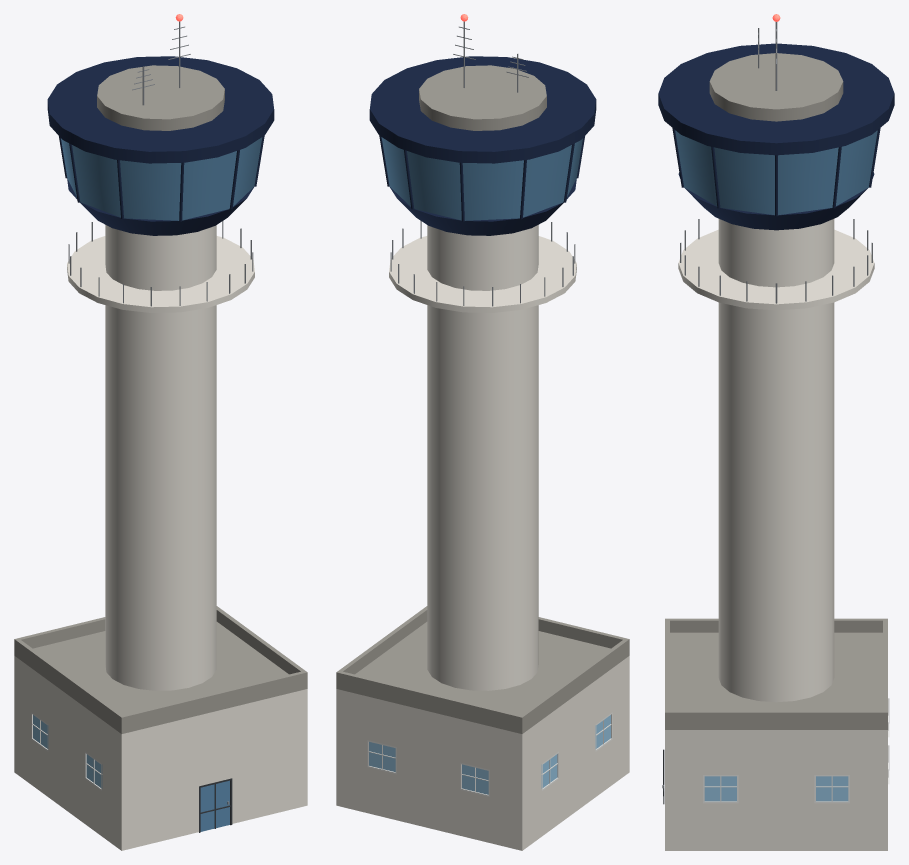
The model's file is torre-controle.glb.
3 renders of one model, left to right at view 1: azimuth 30°, elevation 25°; view 2: azimuth 150°, elevation 25°; view 3: azimuth 270°, elevation 25°, orthographic. The views are drawn at different scales.
Parts seen in each view (by area): view 1: Paredes, Detalhes, Telhado, VidroLuz, Vidro, Molduras; view 2: Paredes, Detalhes, Telhado, VidroLuz, Molduras, Vidro; view 3: Paredes, Detalhes, Telhado, VidroLuz, Molduras.
Part boxes in pixels (left/top/right/bottom): Paredes: left=14, top=225, right=307, bottom=850; Detalhes: left=47, top=21, right=274, bottom=804; Telhado: left=14, top=606, right=307, bottom=733; VidroLuz: left=33, top=137, right=262, bottom=788; Vidro: left=200, top=780, right=229, bottom=831; Molduras: left=31, top=712, right=232, bottom=832; Paredes: left=336, top=225, right=629, bottom=850; Detalhes: left=369, top=21, right=596, bottom=312; Telhado: left=336, top=606, right=629, bottom=733; VidroLuz: left=369, top=137, right=610, bottom=788; Molduras: left=367, top=712, right=612, bottom=796; Vidro: left=462, top=764, right=488, bottom=794; Paredes: left=665, top=219, right=887, bottom=850; Detalhes: left=658, top=22, right=894, bottom=788; Telhado: left=665, top=618, right=887, bottom=729; VidroLuz: left=675, top=130, right=877, bottom=801; Molduras: left=663, top=698, right=889, bottom=804.
Bounding box in the file's own units: 10.6 × 39.58 × 10.6.
